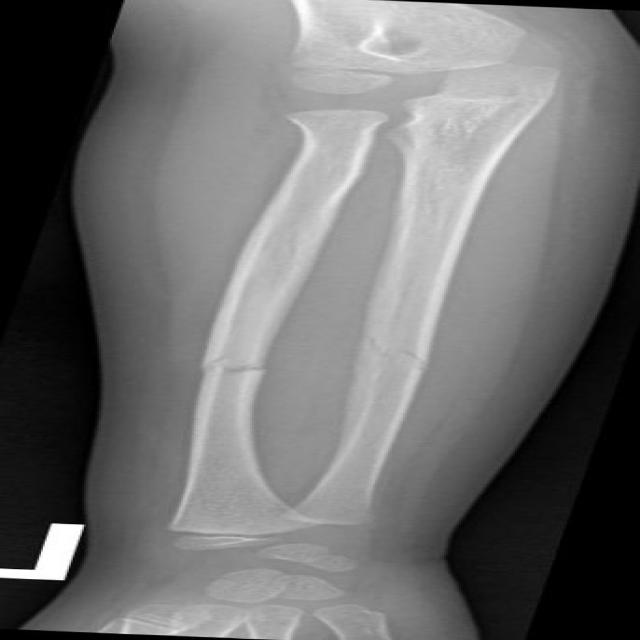Oblique Displaced: (347, 320, 455, 383)
Transverse Displaced: (160, 343, 286, 388)
